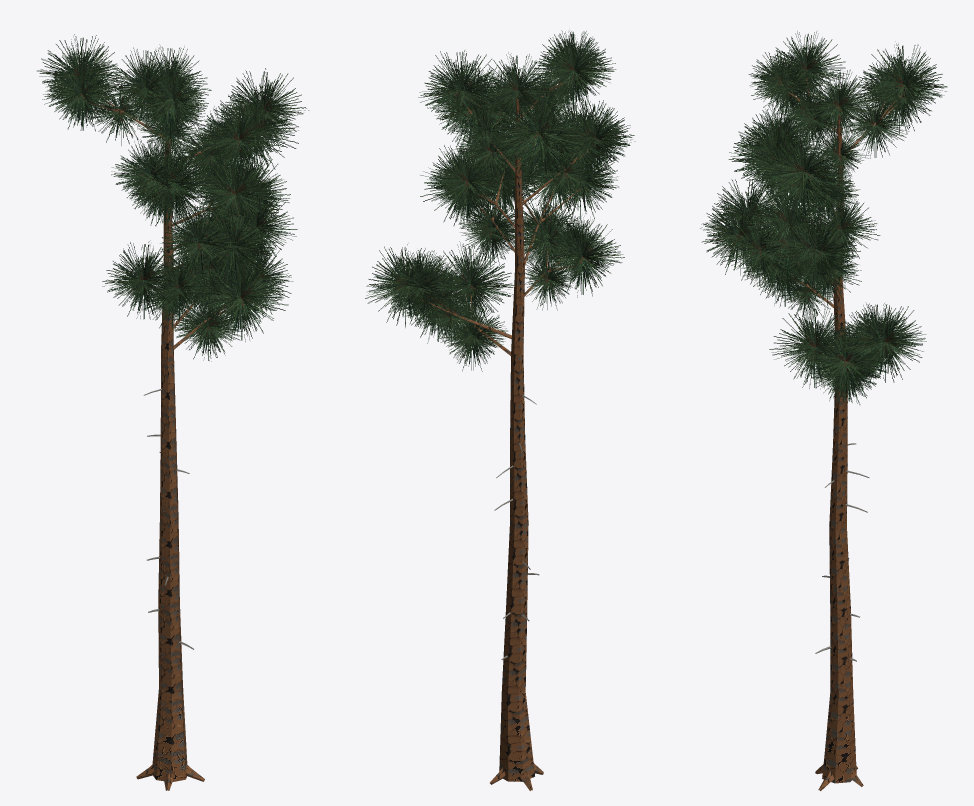
Rendered from TREE_Pine_01.glb.
3 views of the same model, side by side, from view 1: azimuth 30°, elevation 25°; view 2: azimuth 150°, elevation 25°; view 3: azimuth 270°, elevation 25° (orthographic). The views are drawn at different scales.
Visible parts, largest first — view 1: TREE_Pine_01; view 2: TREE_Pine_01; view 3: TREE_Pine_01.
Part boxes in pixels (<box>): TREE_Pine_01: <box>37,34,309,790</box>; TREE_Pine_01: <box>365,30,635,790</box>; TREE_Pine_01: <box>700,31,947,791</box>.
Bounding box in the file's own units: 5.27 × 15.46 × 5.41.
Materials: 4 (4 with a texture image).
